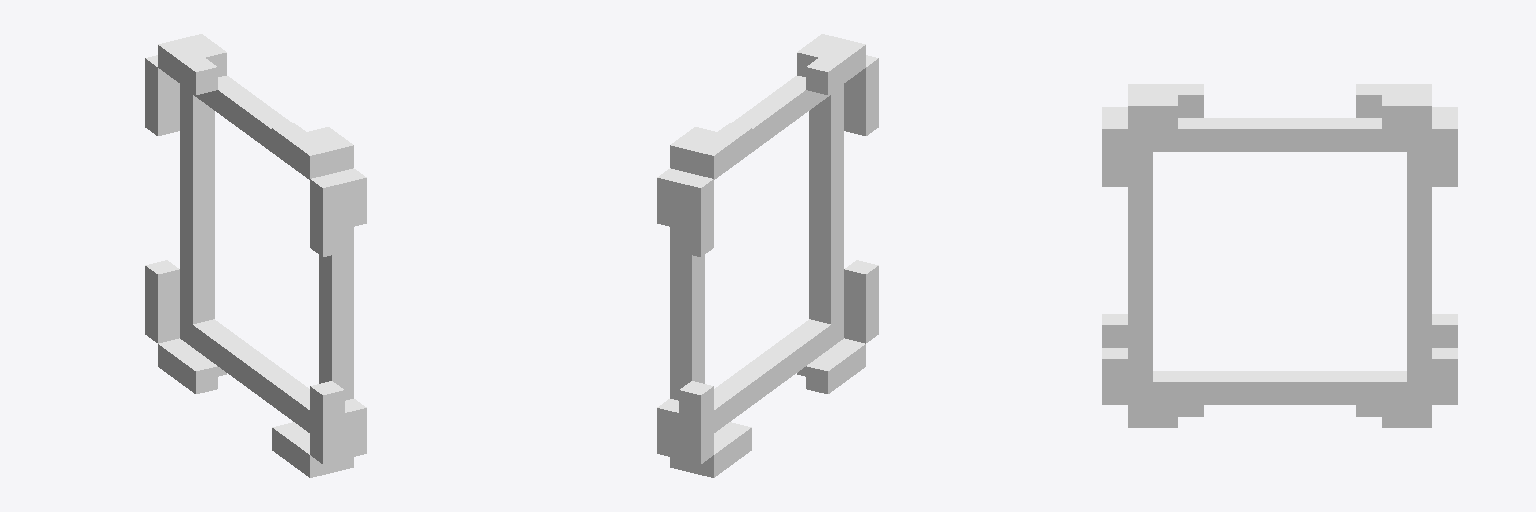
The model's file is glass_xp.obj.
3 renders of one model, left to right at view 1: azimuth 30°, elevation 25°; view 2: azimuth 150°, elevation 25°; view 3: azimuth 270°, elevation 25°, orthographic.
Size of the model in its own units: 2 by 14 by 14.